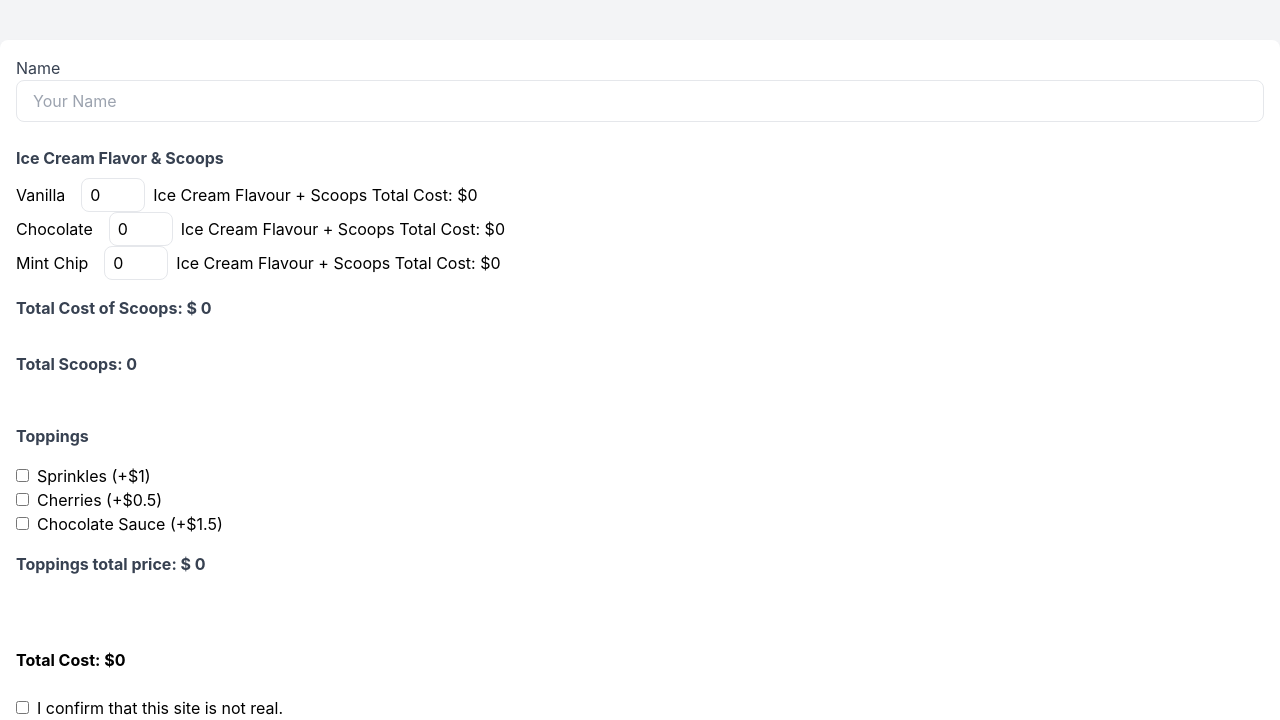
total cost of scoops updates when scoops change
Expected: the text "Total Cost of Scoops: $ 0" is shown, [16,298,212,318]
Replace the text in the number field labelled "Vanilla" with "1" at (113, 195), box [81,178,145,212]
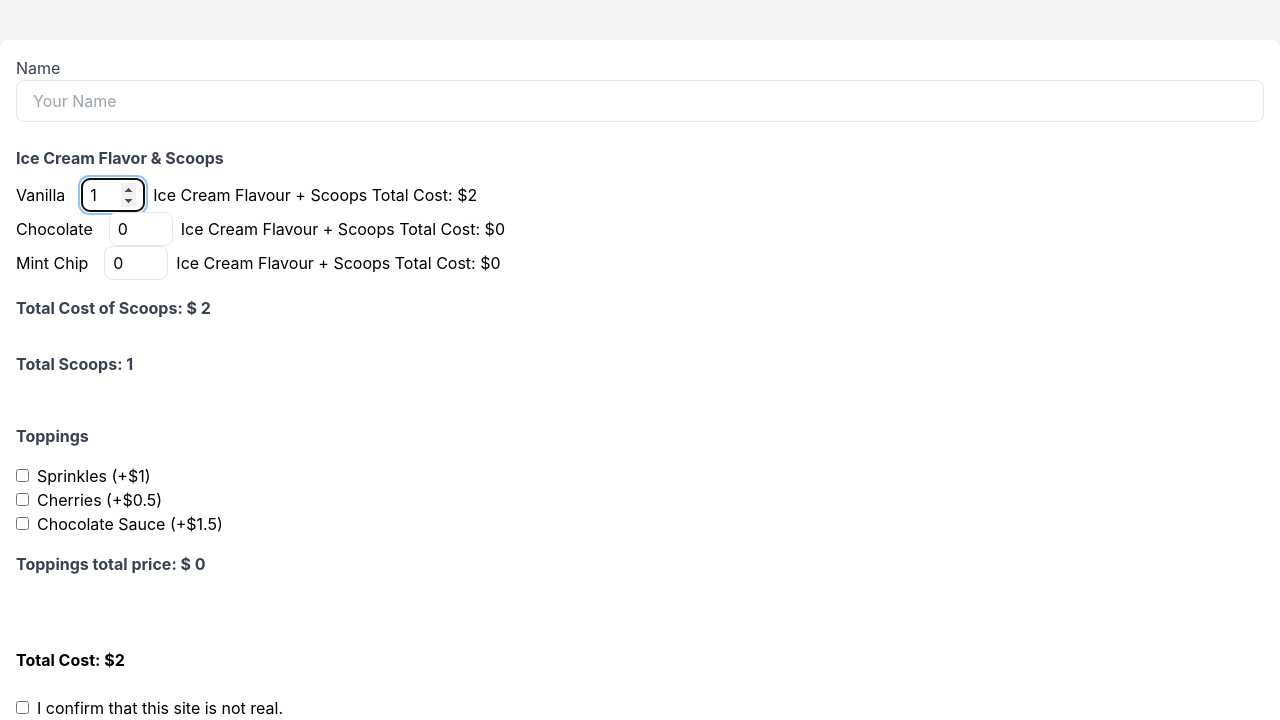
Expected: the text "Total Cost of Scoops: $ 2" is shown, [16,298,211,318]
